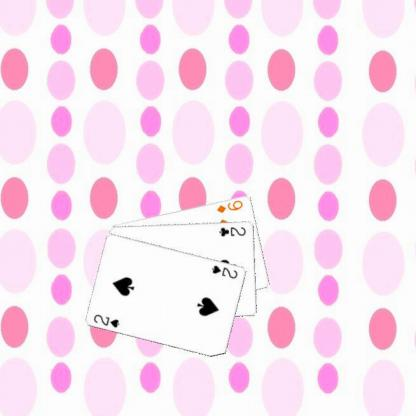2C: (216, 224, 248, 237)
2S: (209, 262, 239, 280), (91, 311, 121, 329)
9D: (214, 198, 244, 214)
